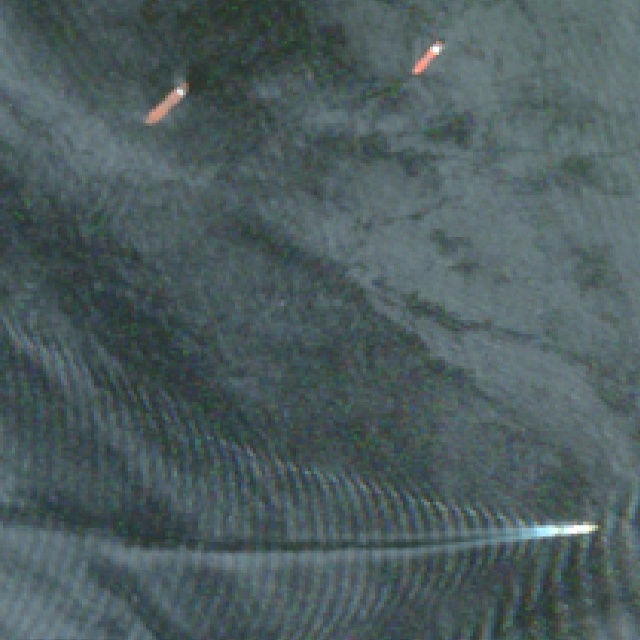wake: (362, 463, 607, 612)
